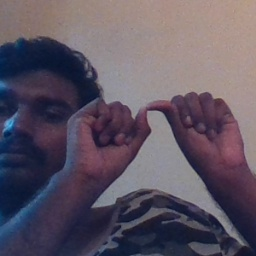A: (91, 85, 225, 177)
